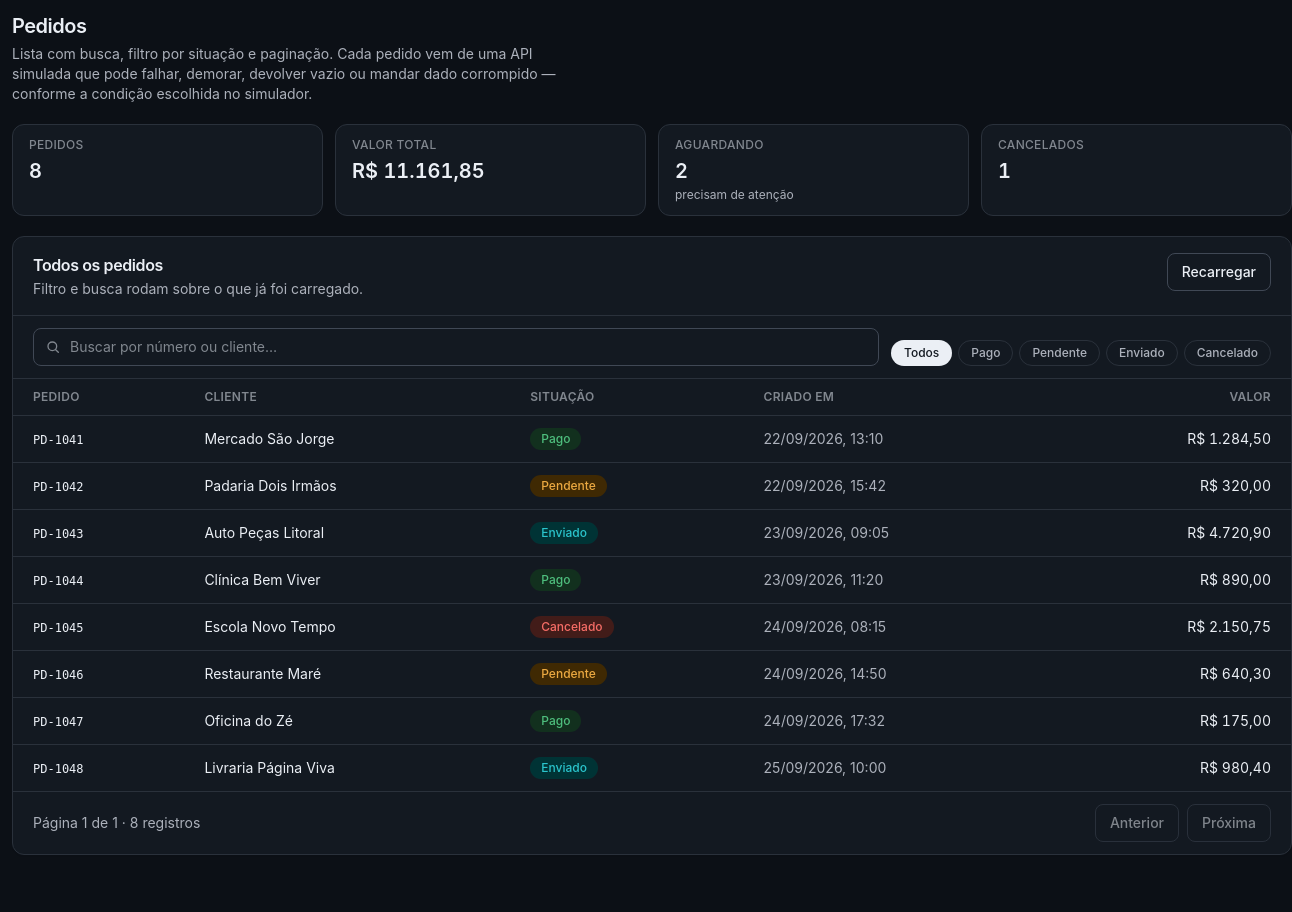
tela de pedidos › busca ignorando acento
Expected: the text "Mercado São Jorge" is shown, [184,416,510,462]
Note: Em português, busca sem normalização de acento é quase inútil.
Step 1. Type "sao jorge" into the search field → (456, 347), box [33,328,879,366]
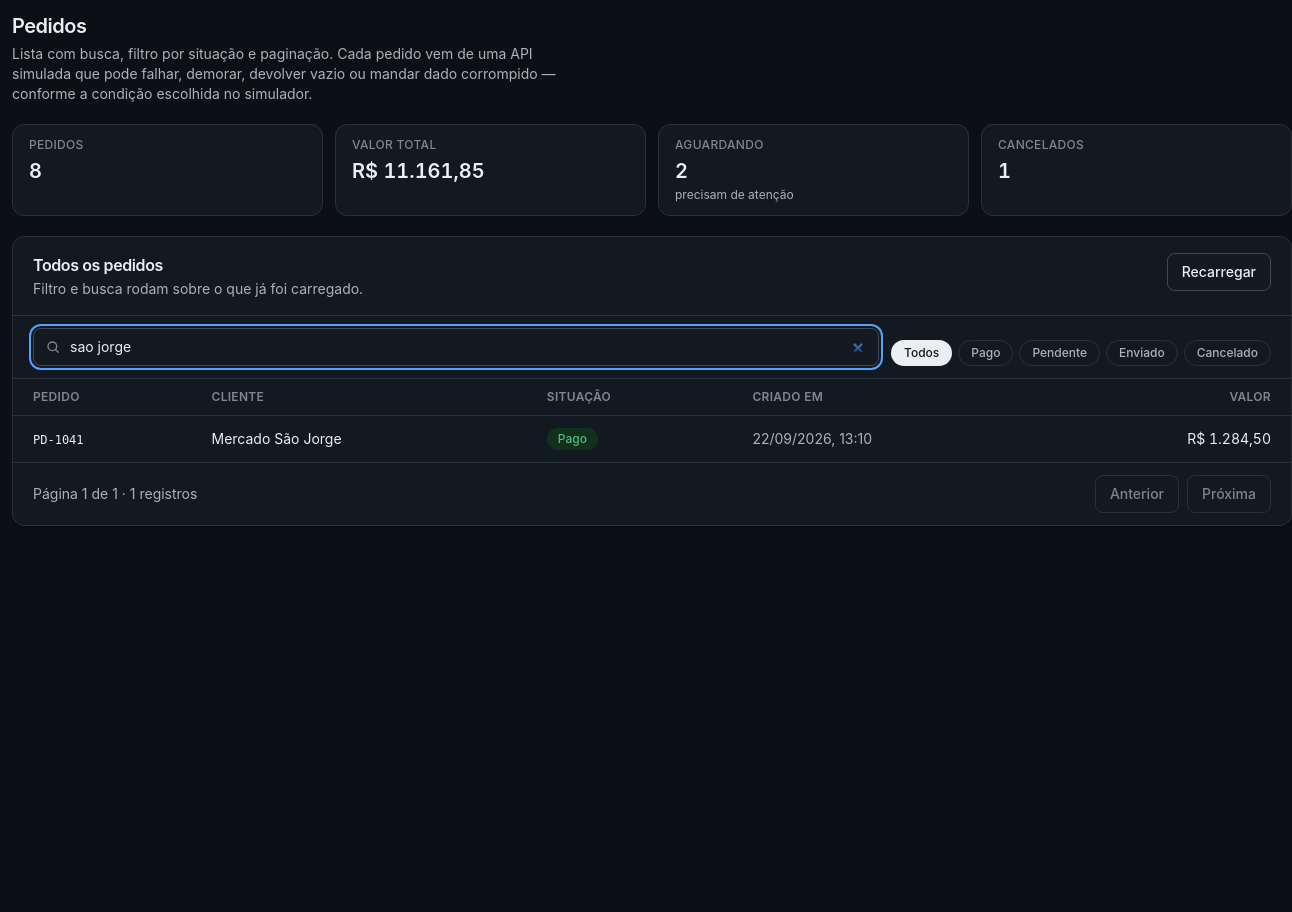
Expected: the text "Mercado São Jorge" is shown, [192,416,527,462]
Expected: the text "Padaria Dois Irmãos" is gone
